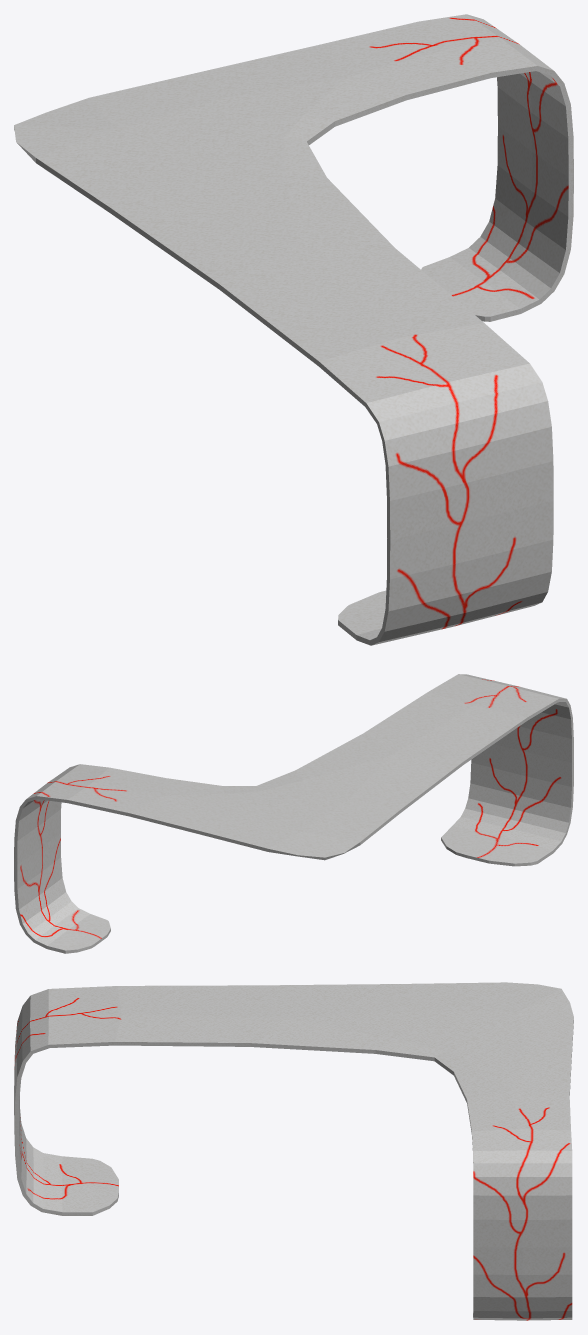
Rendered from table.fbx.
3 renders of one model, top to bottom at view 1: azimuth 30°, elevation 25°; view 2: azimuth 150°, elevation 25°; view 3: azimuth 270°, elevation 25°, orthographic. The views are drawn at different scales.
Visible parts, largest first — view 1: Cube.002; view 2: Cube.002; view 3: Cube.002.
Part boxes in pixels (x1,y1,x2,y2): Cube.002: (14,14,573,645); Cube.002: (14,674,573,953); Cube.002: (14,982,573,1320).
Bounding box in the file's own units: 420 × 199 × 564.
